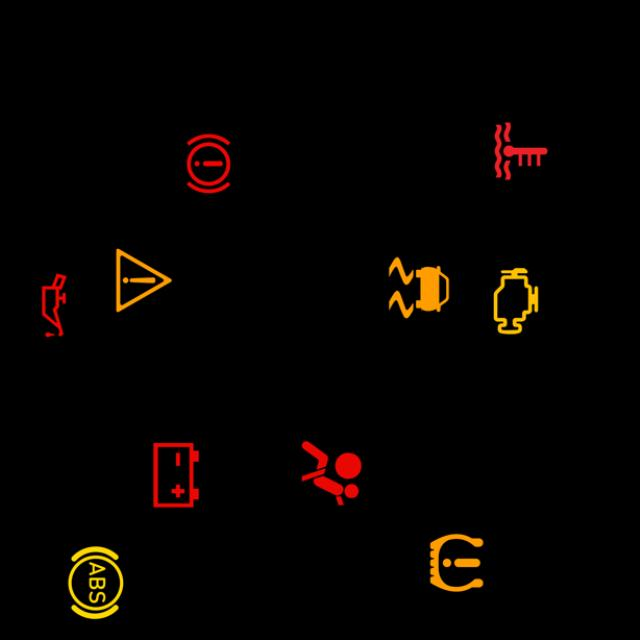Anti Lock Braking System: (56, 543, 134, 622)
Braking System Issue: (168, 124, 247, 203)
Charging System Issue: (136, 436, 214, 515)
Check Engine: (476, 262, 554, 341)
Electronic Stability Problem -ESP-: (378, 248, 458, 327)
Engine Overheating Warning Light: (480, 111, 560, 190)
Low Engine Oil Warning Light: (13, 266, 92, 345)
Low Tire Pressure Warning Light: (416, 524, 495, 602)
Master warning light: (104, 241, 182, 320)
SRS-Airbag: (291, 433, 370, 512)
